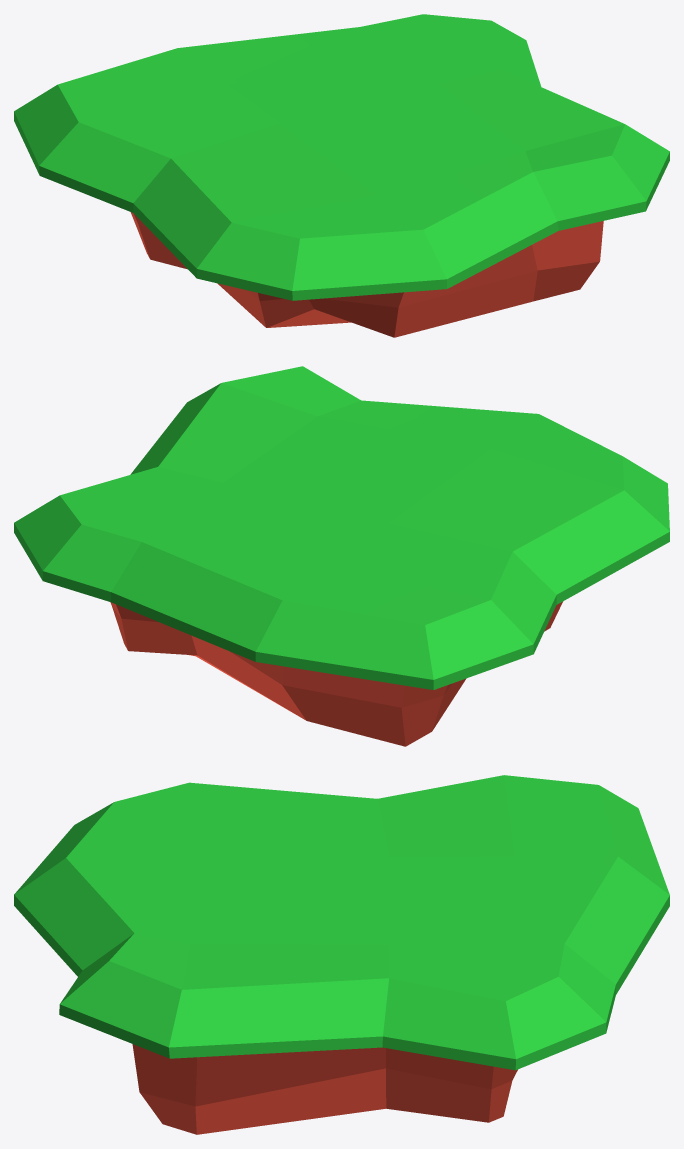
The model's file is platformScale2.fbx.
3 renders of one model, top to bottom at view 1: azimuth 30°, elevation 25°; view 2: azimuth 150°, elevation 25°; view 3: azimuth 270°, elevation 25°, orthographic. The views are drawn at different scales.
Parts seen in each view (by area): view 1: Cube001; view 2: Cube001; view 3: Cube001.
Boxes of the visible parts, x1,y1,x2,y2 form: Cube001: (14,14,669,337); Cube001: (14,366,669,746); Cube001: (14,775,669,1134).
Bounding box in the file's own units: 132 × 41.57 × 136.
1 material, 1 textured.
